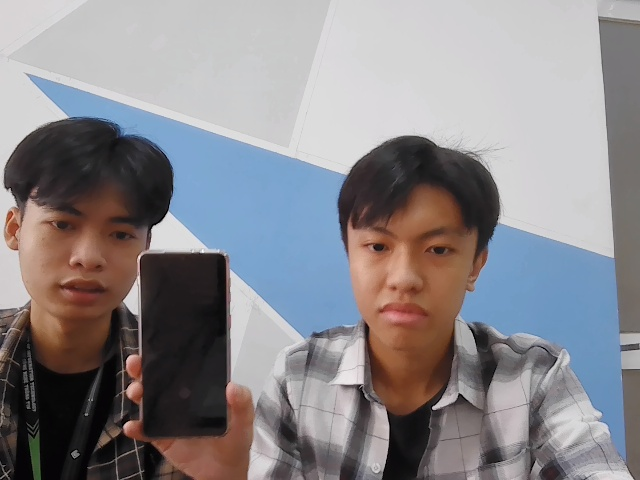human: (4, 115, 168, 332), (336, 134, 495, 355)
phone: (131, 246, 236, 442)
